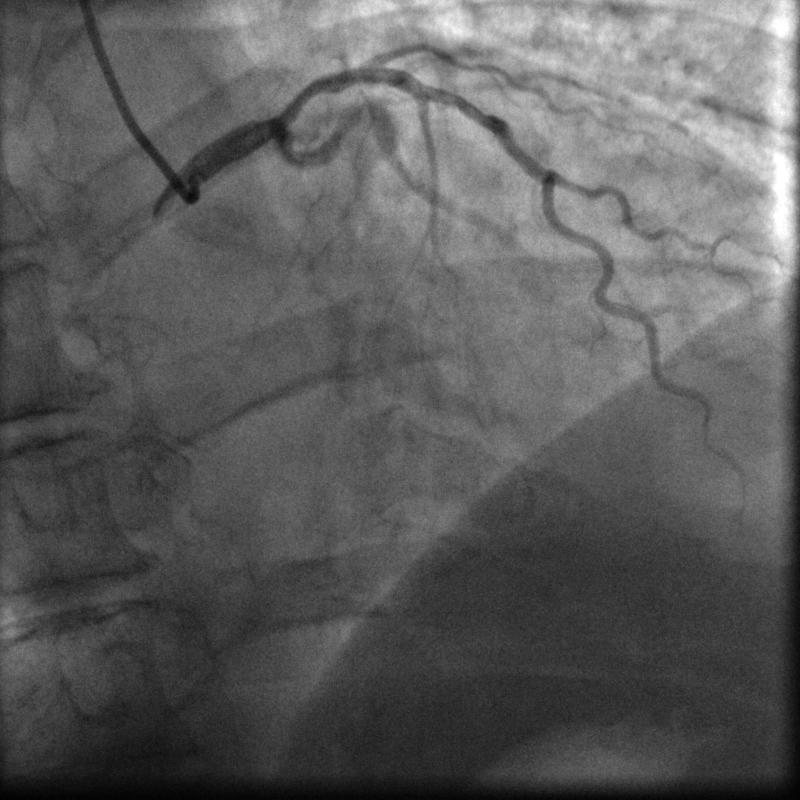Stenosis: (348, 97, 394, 121)
